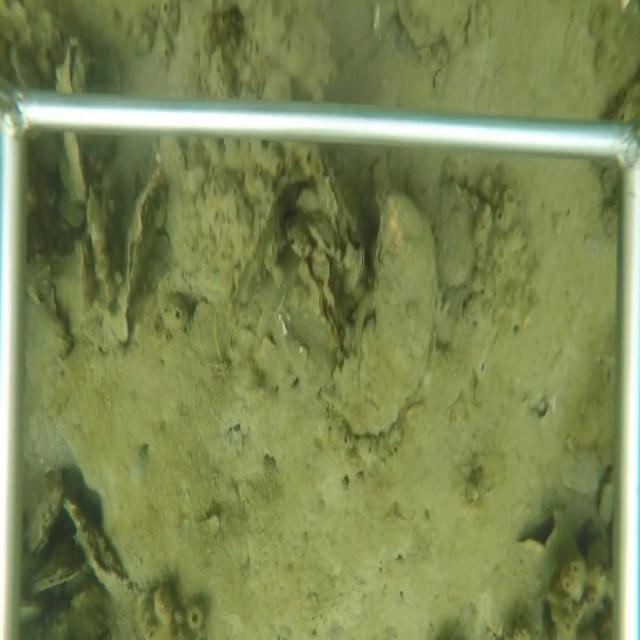Oyster-Closed: (318, 182, 441, 442), (107, 165, 171, 362), (65, 493, 145, 611), (307, 153, 359, 243), (297, 255, 342, 352), (25, 462, 68, 560), (30, 560, 82, 598), (62, 134, 90, 204), (341, 246, 369, 303)
Oyster-Indeterminate: (27, 266, 78, 355), (392, 3, 478, 53), (440, 179, 478, 287)
Oyster-Open: (51, 35, 92, 92)
